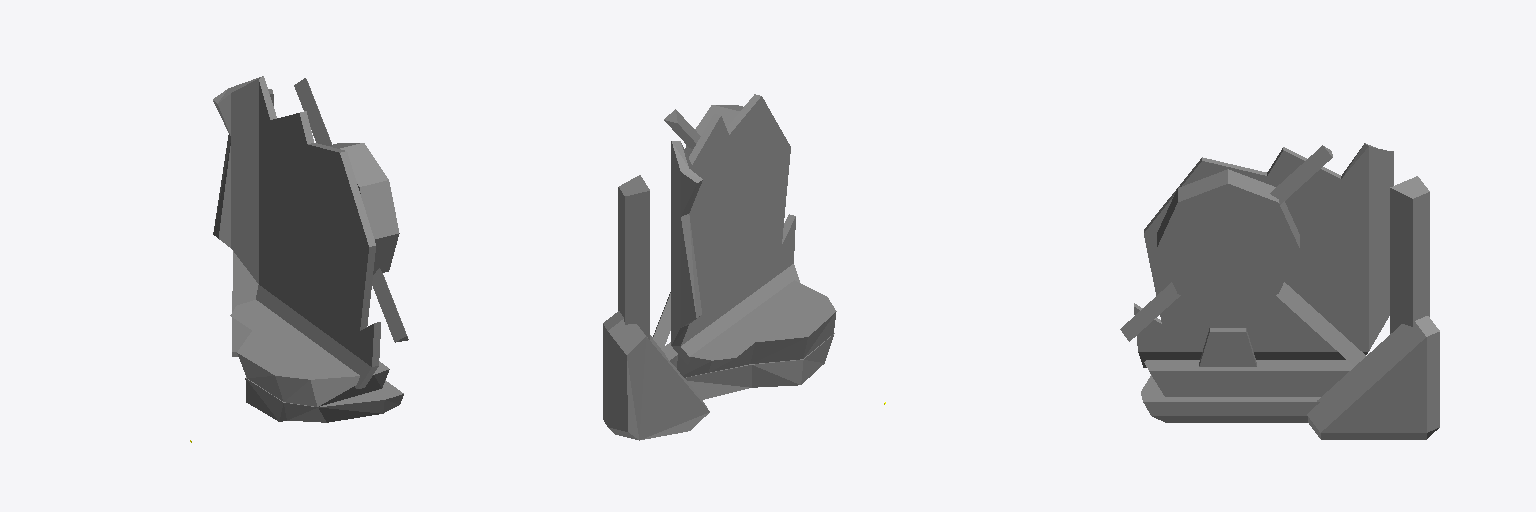
Rendered from cpz_obj_breakbox_brk_002.obj.
3 renders of one model, left to right at view 1: azimuth 30°, elevation 25°; view 2: azimuth 150°, elevation 25°; view 3: azimuth 270°, elevation 25°, orthographic.
Visible parts, largest first — view 1: cpz_glass_tn1_glasstube, cpz_metal_yy_slop_cmn_dpn, cpz_yy1_road_cmn_dp; view 2: cpz_glass_tn1_glasstube, cpz_metal_yy_slop_cmn_dpn, cpz_metal_st1_tank01_cmn_dpnE, cpz_yy1_road_cmn_dp; view 3: cpz_glass_tn1_glasstube, cpz_metal_yy_slop_cmn_dpn, ccp_metal_yy_circle_Cmn_dpn, cpz_yy1_road_cmn_dp, ccp_metal_yy_yelow_Cmn_dpn, cpz_metal_st1_tank01_cmn_dpnE.
Boxes of the visible parts, <box> form: cpz_glass_tn1_glasstube: <box>213,76,380,388</box>; cpz_metal_yy_slop_cmn_dpn: <box>230,89,408,422</box>; cpz_yy1_road_cmn_dp: <box>294,78,407,341</box>; cpz_glass_tn1_glasstube: <box>671,94,799,364</box>; cpz_metal_yy_slop_cmn_dpn: <box>603,109,836,440</box>; cpz_metal_st1_tank01_cmn_dpnE: <box>618,187,649,302</box>; cpz_yy1_road_cmn_dp: <box>618,105,743,350</box>; cpz_glass_tn1_glasstube: <box>1134,143,1393,367</box>; cpz_metal_yy_slop_cmn_dpn: <box>1141,146,1439,439</box>; ccp_metal_yy_circle_Cmn_dpn: <box>1157,184,1298,312</box>; cpz_yy1_road_cmn_dp: <box>1120,145,1429,366</box>; ccp_metal_yy_yelow_Cmn_dpn: <box>1144,362,1353,396</box>; cpz_metal_st1_tank01_cmn_dpnE: <box>1199,188,1429,366</box>.
Size of the model in its own units: 36 by 54.39 by 54.28.